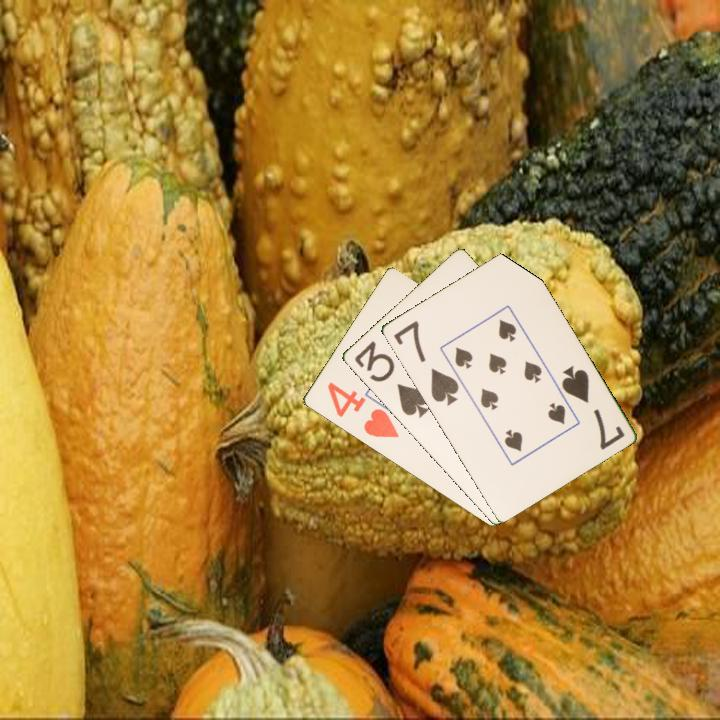3s: (350, 337, 432, 421)
4h: (323, 378, 402, 441)
7s: (390, 317, 462, 409), (557, 362, 627, 453)
